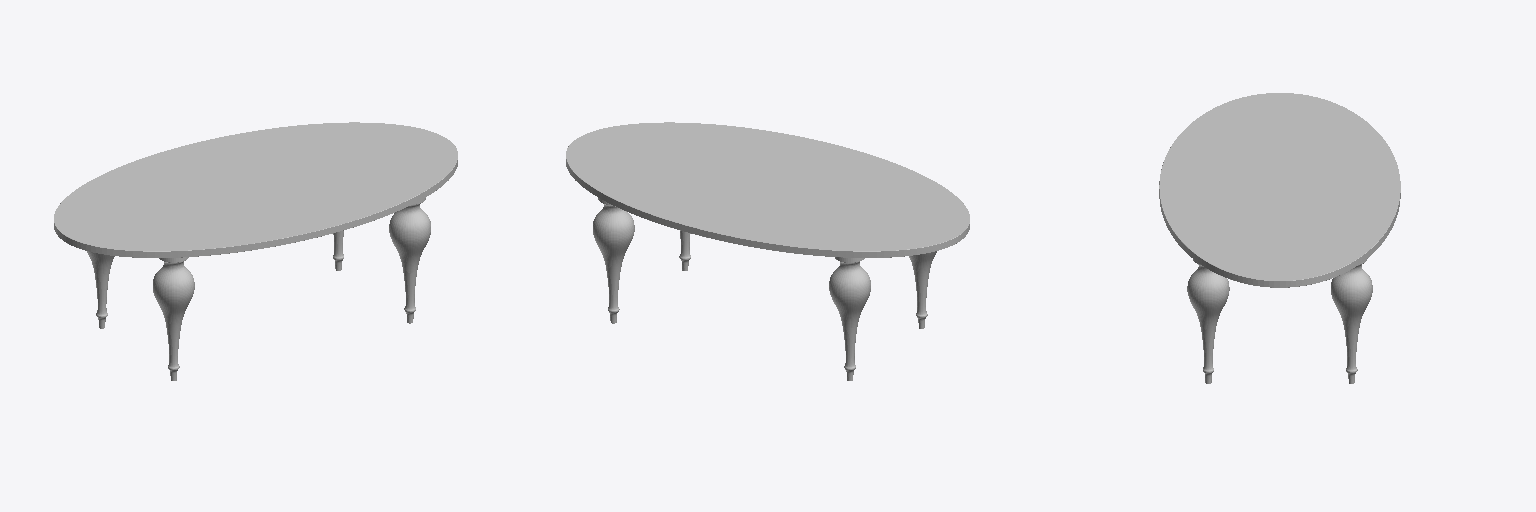
File: EGOIST tavolo_ table 240x130 h78.obj
3 views of the same model, side by side, from view 1: azimuth 30°, elevation 25°; view 2: azimuth 150°, elevation 25°; view 3: azimuth 270°, elevation 25° (orthographic).
Parts seen in each view (by area): view 1: Ellipse001, Line005, Line004, Line006; view 2: Ellipse001, Line006, Line001, Line005; view 3: Ellipse001, Line001, Line004.
Boxes of the visible parts, x1=… form: Ellipse001: x1=54, y1=122, x2=457, y2=257; Line005: x1=153, y1=257, x2=194, y2=380; Line004: x1=389, y1=198, x2=430, y2=323; Line006: x1=87, y1=251, x2=114, y2=328; Ellipse001: x1=566, y1=122, x2=969, y2=257; Line006: x1=829, y1=257, x2=870, y2=380; Line001: x1=593, y1=198, x2=634, y2=323; Line005: x1=909, y1=251, x2=936, y2=328; Ellipse001: x1=1159, y1=93, x2=1400, y2=287; Line001: x1=1331, y1=258, x2=1372, y2=383; Line004: x1=1187, y1=259, x2=1229, y2=383.
Bounding box in the file's own units: 2400 × 820 × 1300.